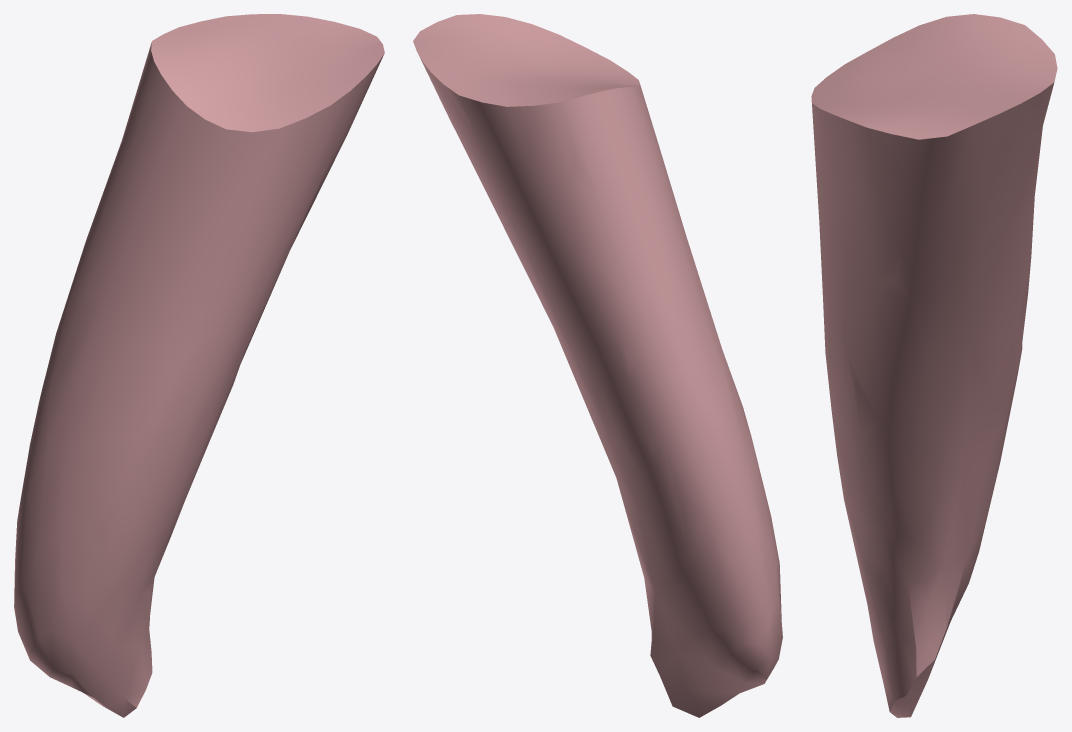
File: fma39361-f_mm1939m.glb
3 views of the same model, side by side, from view 1: azimuth 30°, elevation 25°; view 2: azimuth 150°, elevation 25°; view 3: azimuth 270°, elevation 25° (orthographic). The views are drawn at different scales.
Parts seen in each view (by area): view 1: FMA39361-F_MM1939M; view 2: FMA39361-F_MM1939M; view 3: FMA39361-F_MM1939M.
Boxes of the visible parts, x1,y1,x2,y2 form: FMA39361-F_MM1939M: (14, 14, 384, 717); FMA39361-F_MM1939M: (413, 14, 782, 717); FMA39361-F_MM1939M: (811, 14, 1057, 717).
Bounding box in the file's own units: 0.00876 × 0.0148 × 0.00444.
